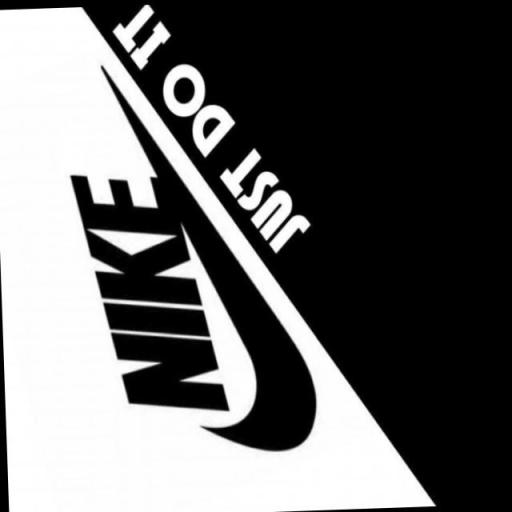Nike: (167, 158, 318, 456), (70, 162, 232, 416)
